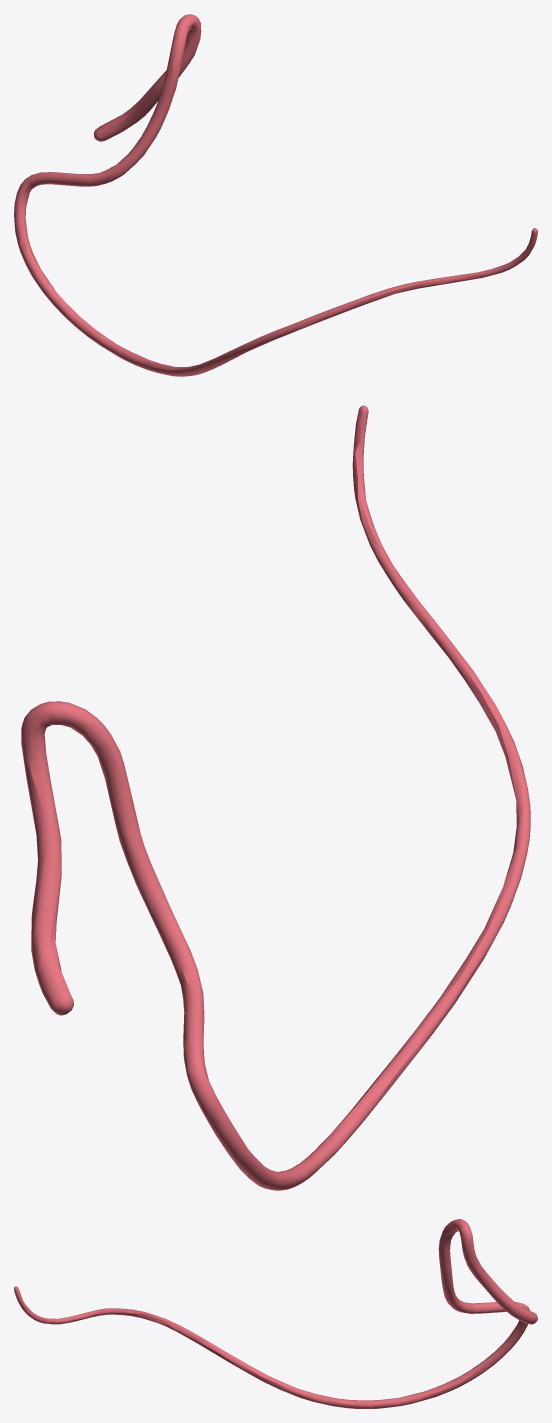
Rendered from fma76149_fj5110.glb.
3 renders of one model, top to bottom at view 1: azimuth 30°, elevation 25°; view 2: azimuth 150°, elevation 25°; view 3: azimuth 270°, elevation 25°, orthographic. The views are drawn at different scales.
Visible parts, largest first — view 1: FMA76149_FJ5110; view 2: FMA76149_FJ5110; view 3: FMA76149_FJ5110.
Boxes of the visible parts, <box> form: FMA76149_FJ5110: <box>14,14,537,376</box>; FMA76149_FJ5110: <box>21,405,530,1190</box>; FMA76149_FJ5110: <box>14,1219,537,1408</box>.
Size of the model in its own units: 0.02 by 0.0235 by 0.0477.
